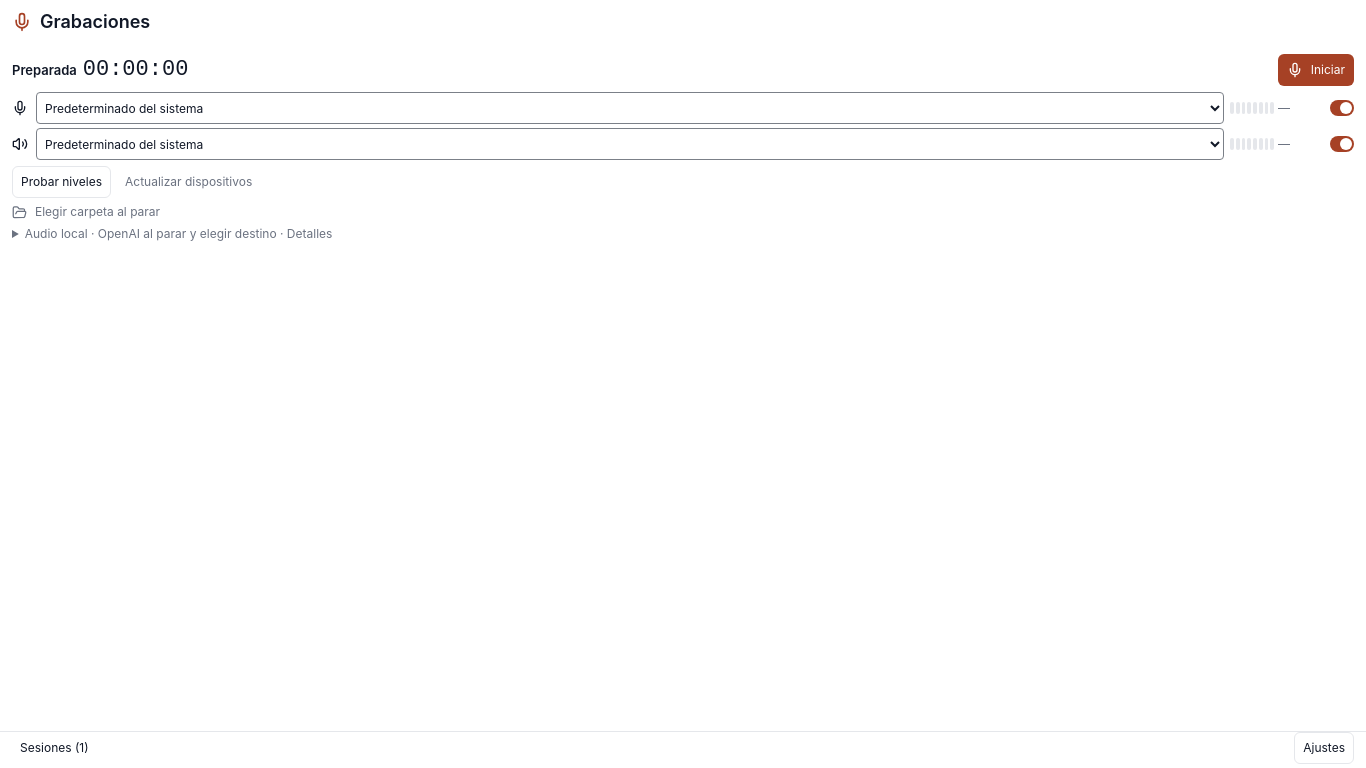
Test case: recording modal boundaries › protects destination selection, visible errors and saving against Escape or duplicate submit
Click the button "Sesiones (1)" at (54, 748), box [12,732,97,764]
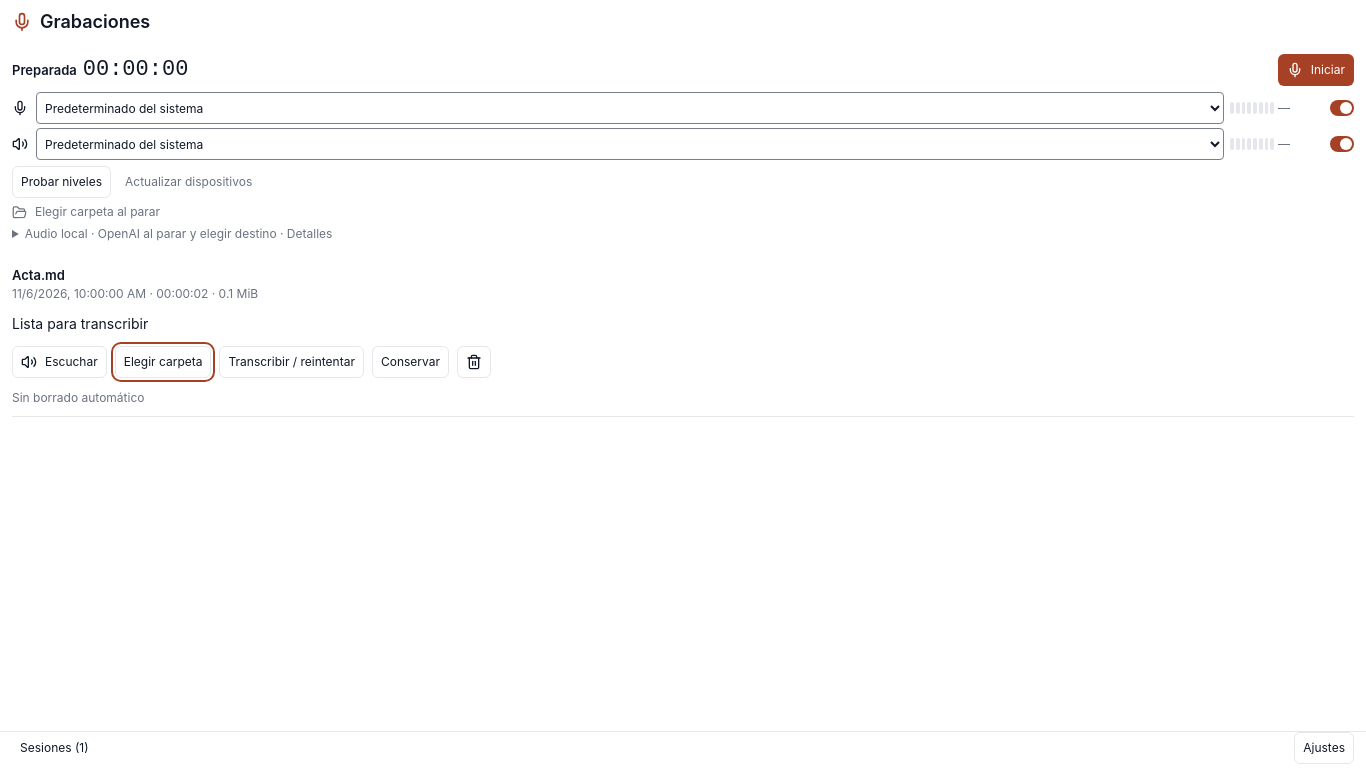
Click the button "Elegir carpeta" at (163, 362), box [115,346,212,378]
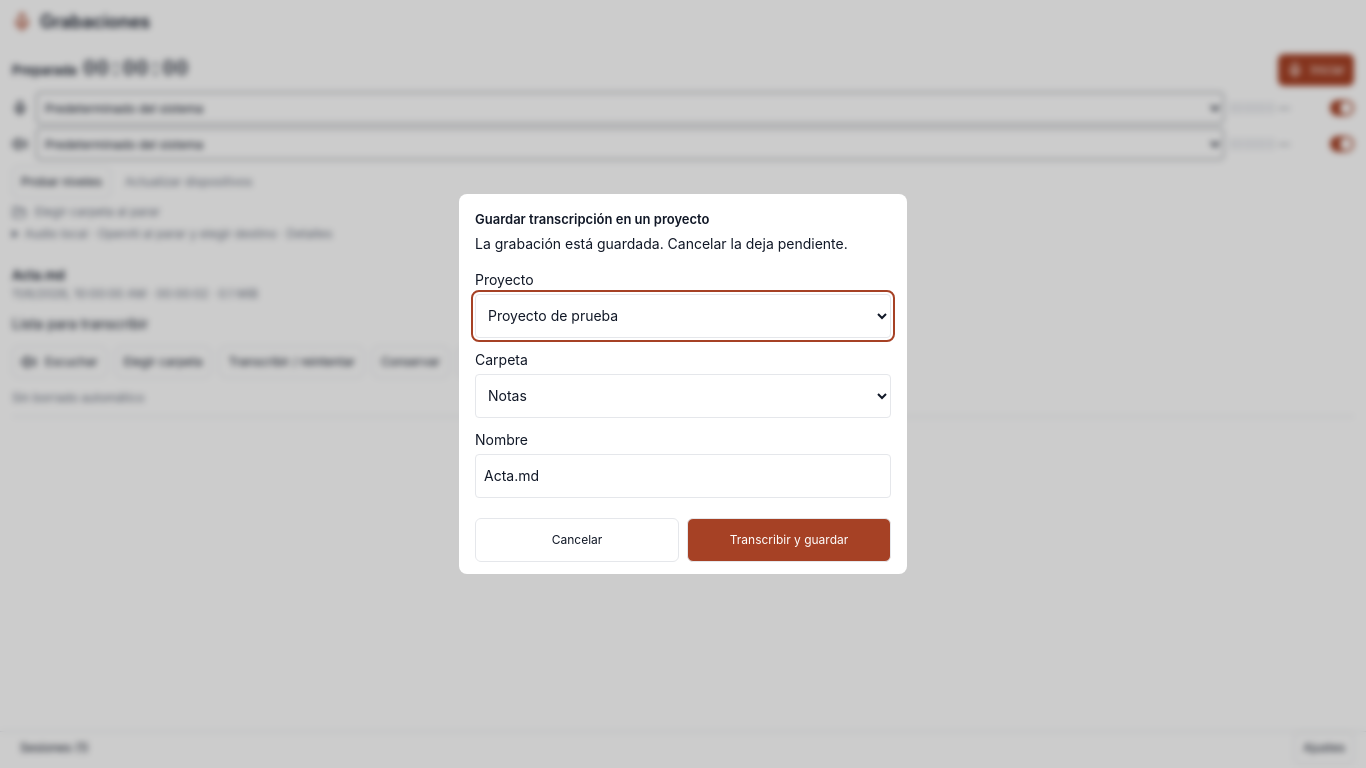
Expected: the dropdown labelled "Proyecto" shows "Proyecto de prueba", [475,294,891,338]
Expected: the dropdown labelled "Carpeta" shows "Notas", [475,374,891,418]
Replace the text in the field labelled "Nombre" with "Conservar selección.md" at (683, 476), box [475,454,891,498]
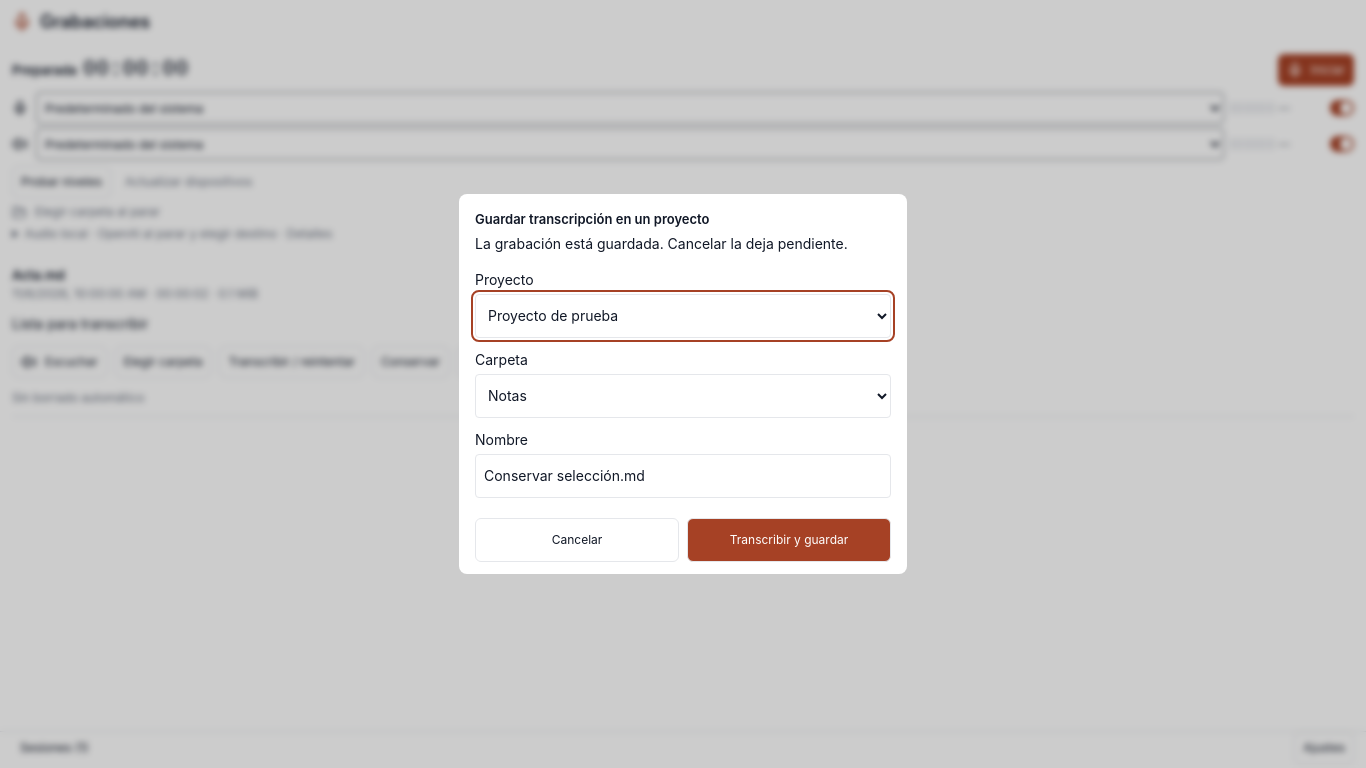
Click the button "Transcribir y guardar" at (789, 540), box [687,518,891,562]
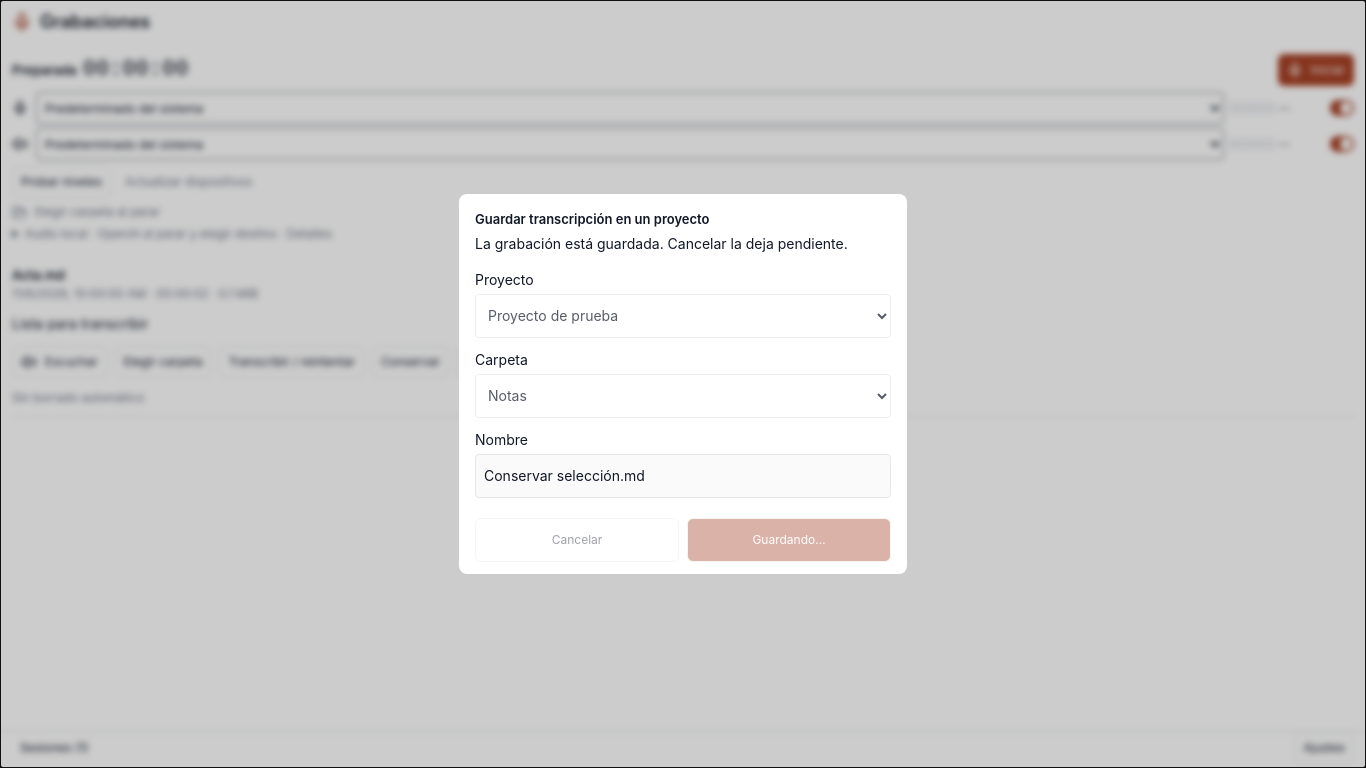
Press Escape in the dialog named "Destino de la transcripción"
Expected: the dialog named "Destino de la transcripción" is shown
Expected: the button "Cancelar" is disabled, [475,518,679,562]
Submit the form, box [459,194,907,574]
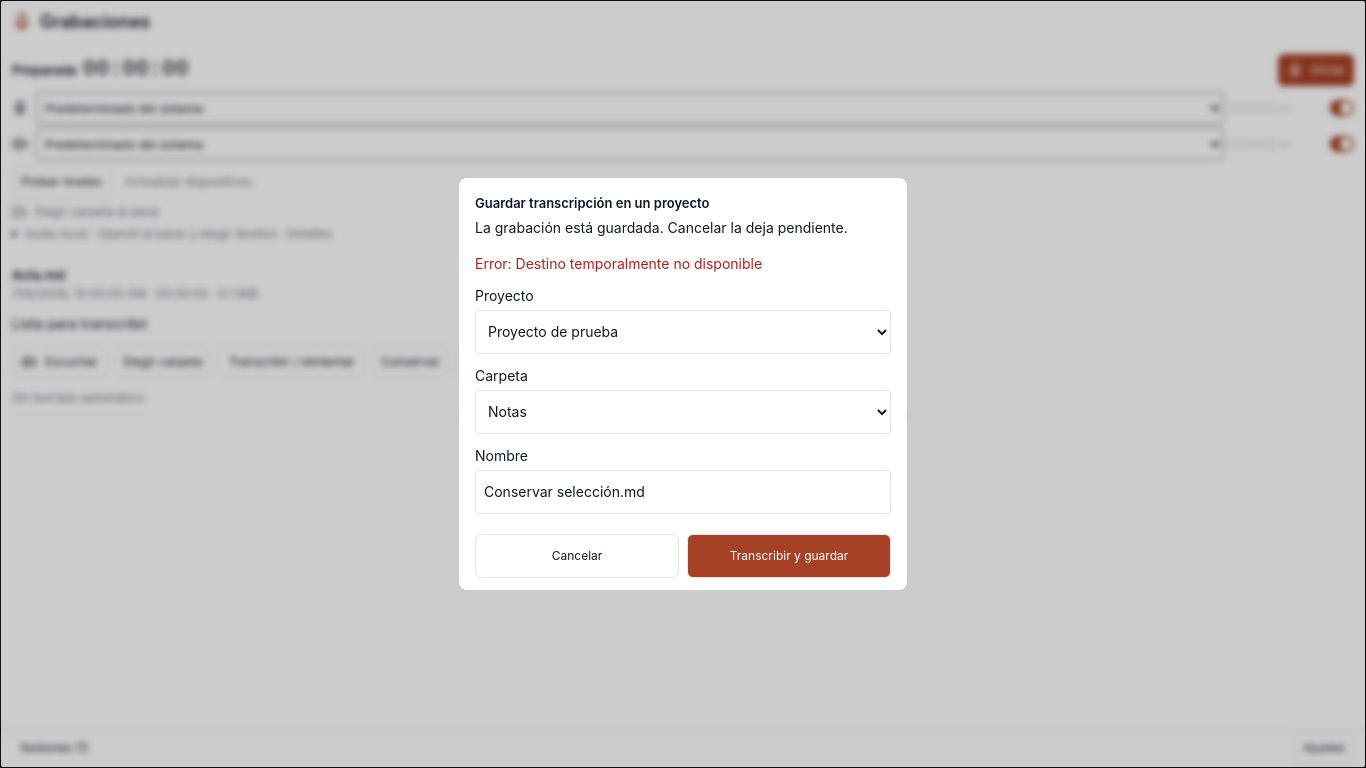
Expected: the dropdown labelled "Proyecto" shows "Proyecto de prueba", [475,310,891,354]
Expected: the dropdown labelled "Carpeta" shows "Notas", [475,390,891,434]
Expected: the message shows "Destino temporalmente no disponible", [475,255,762,272]
Press Escape in the dialog named "Destino de la transcripción"
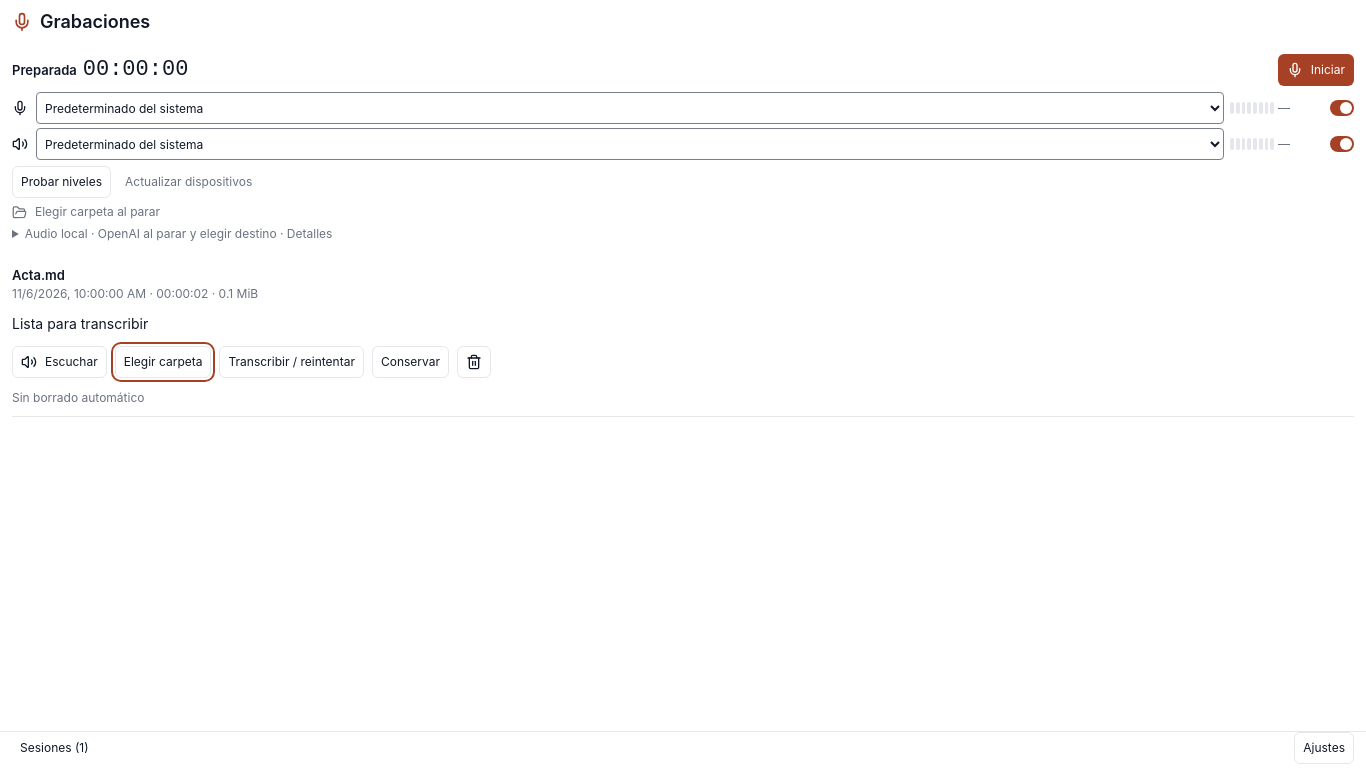
Expected: the dialog is gone
